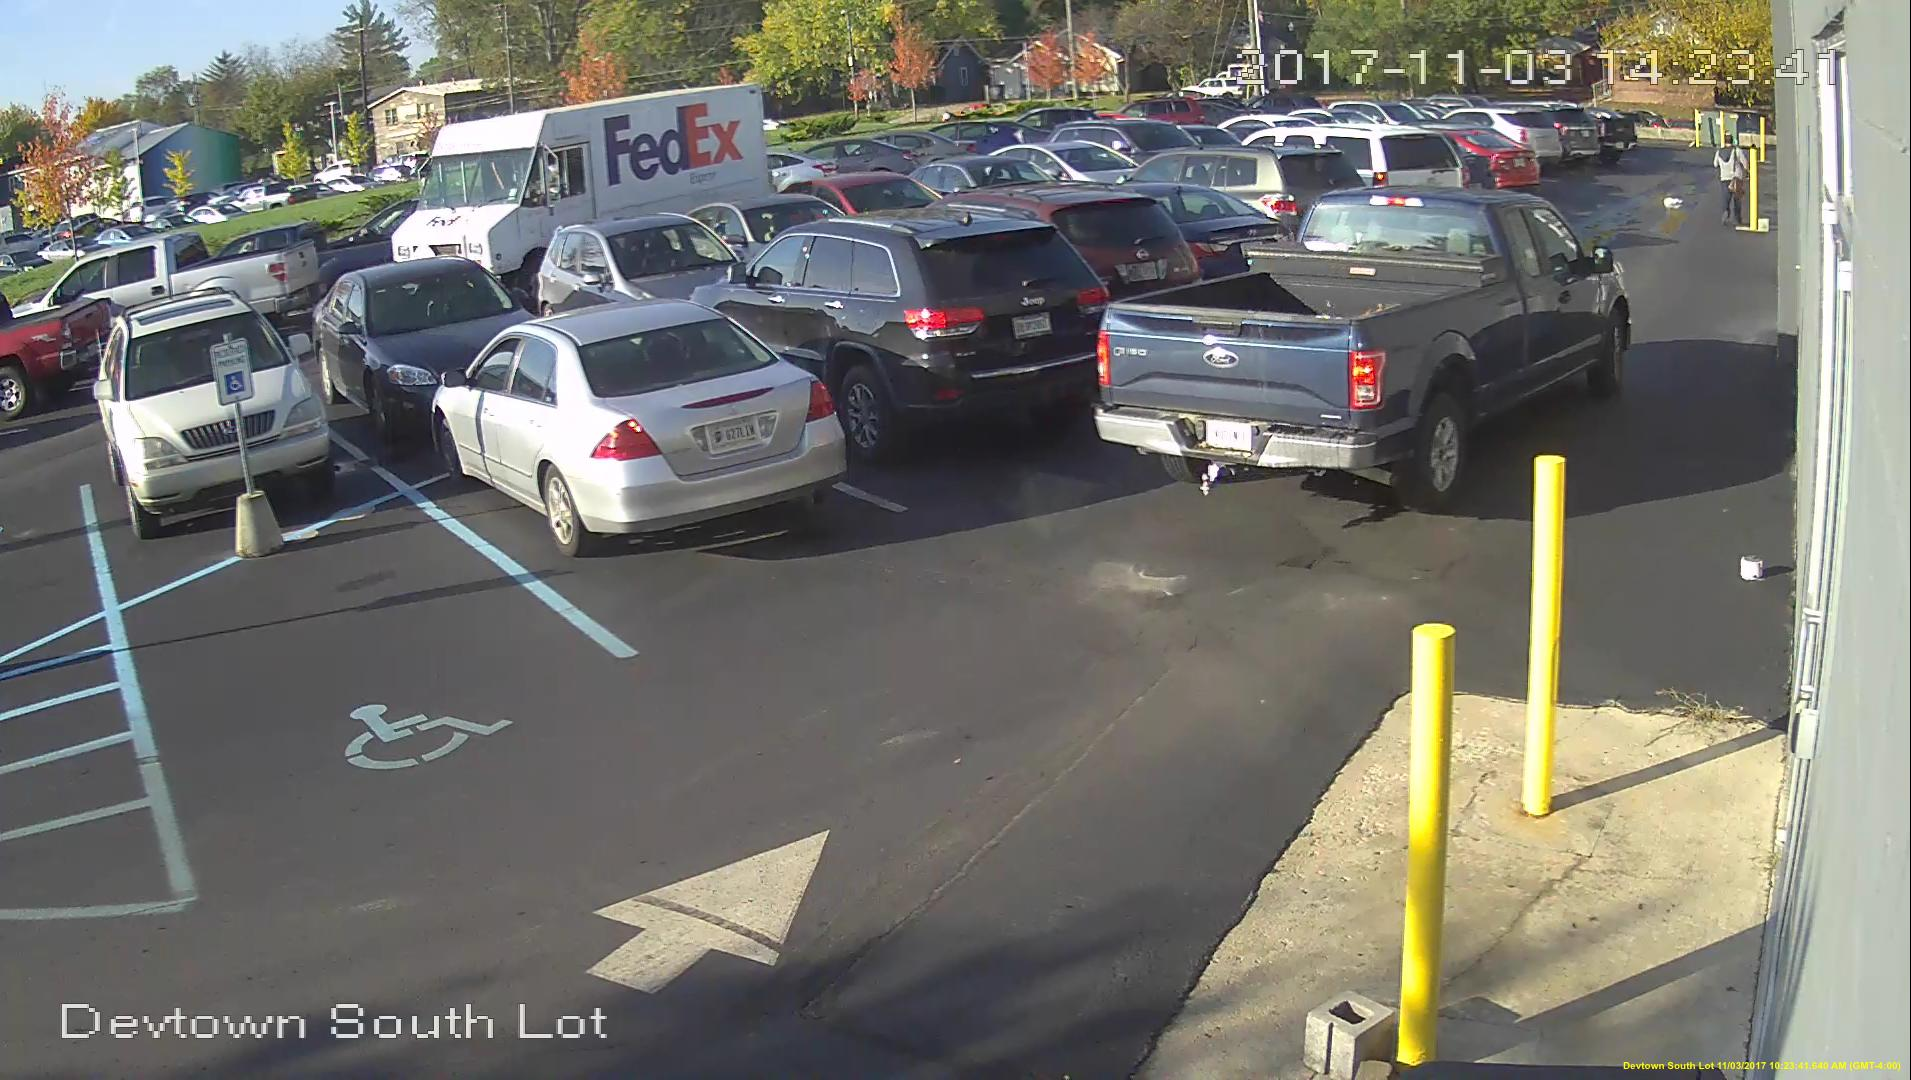fedex_truck: (385, 81, 776, 280)
